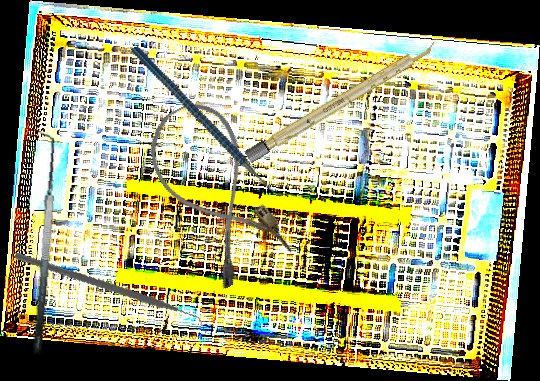Cannula: (134, 91, 297, 292)
Chopper: (131, 12, 294, 232), (13, 215, 208, 373)
Scalpel Handle: (244, 38, 439, 164)
Spatula Surgical: (13, 131, 67, 355)
